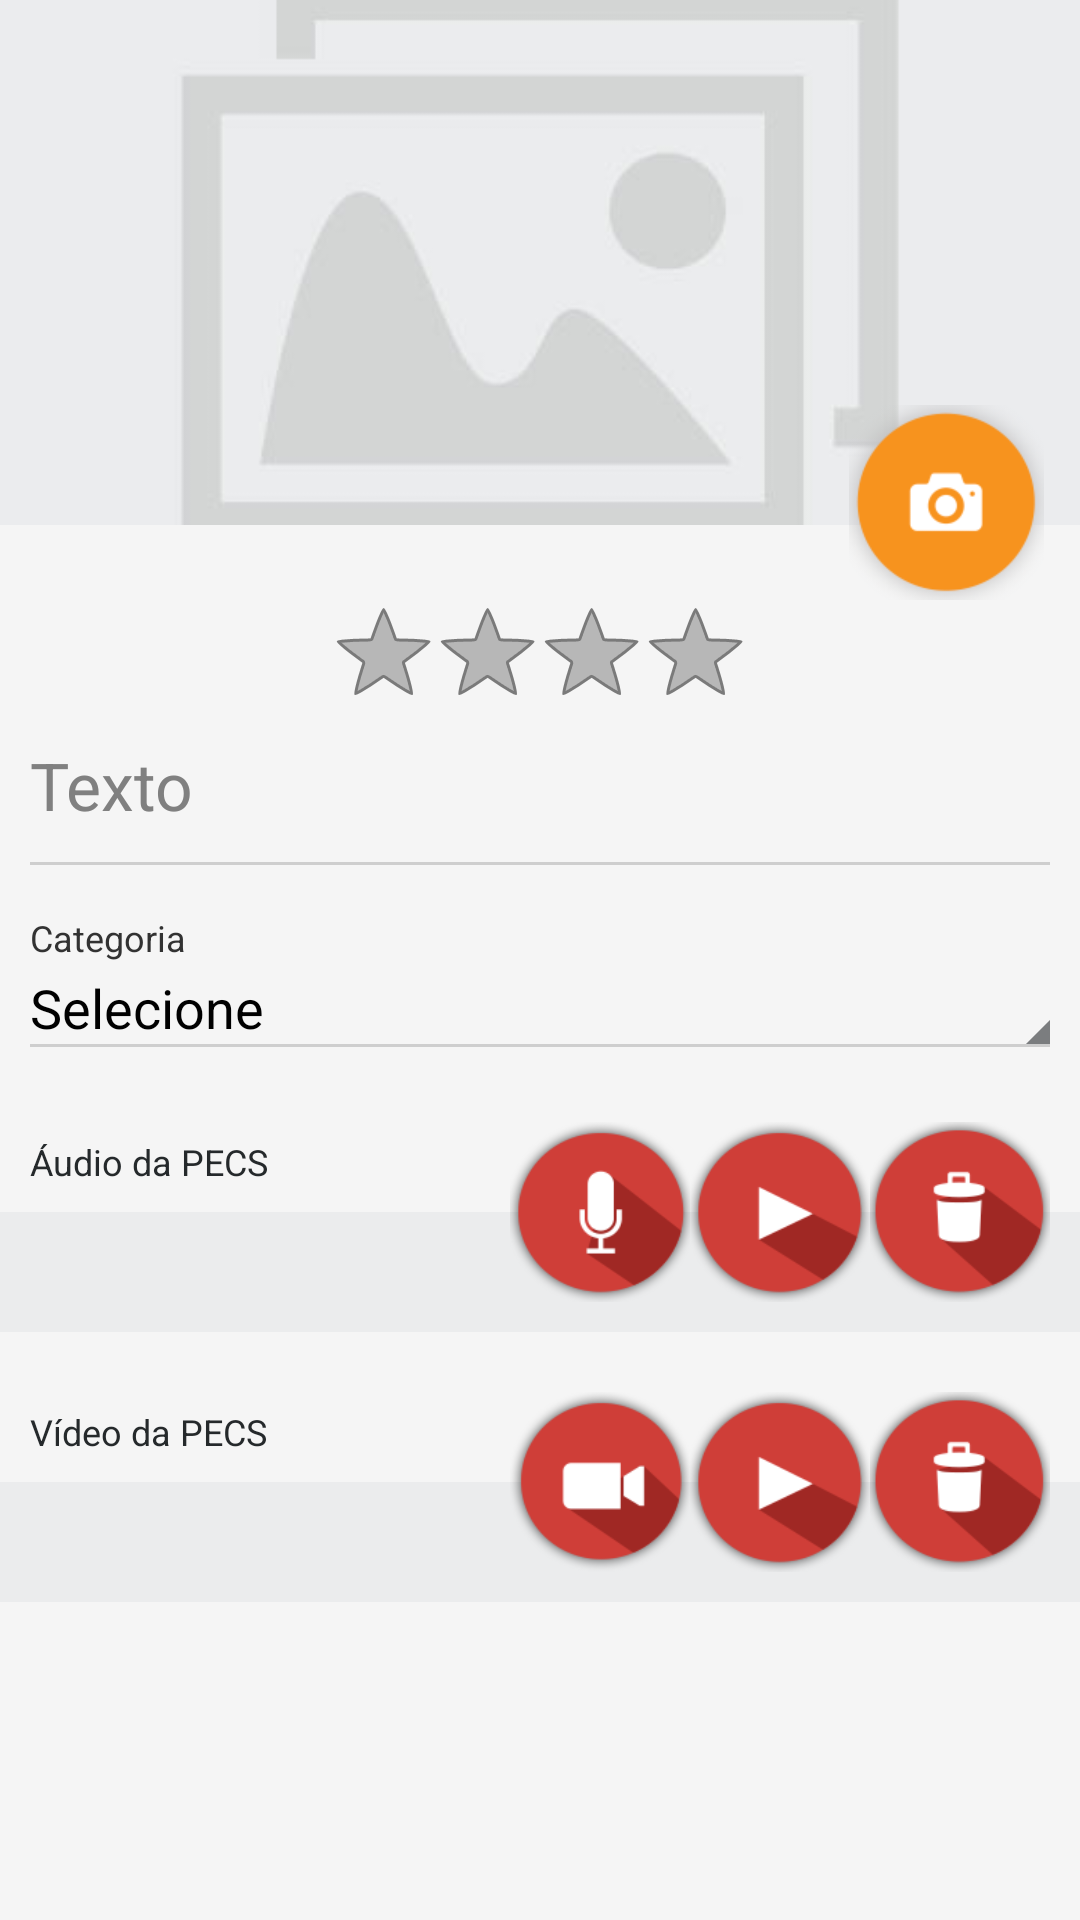

Where icons sit on this 1080px x 1920px app screen, as (x1,y1,x2,y2):
Clique para Incluir Foto: (849,405,1040,593)
play: (690,1127,869,1300), (690,1397,869,1570)
trash: (870,1125,1050,1298), (870,1395,1050,1568)
video: (515,1398,688,1566)
voice: (510,1127,690,1300)
